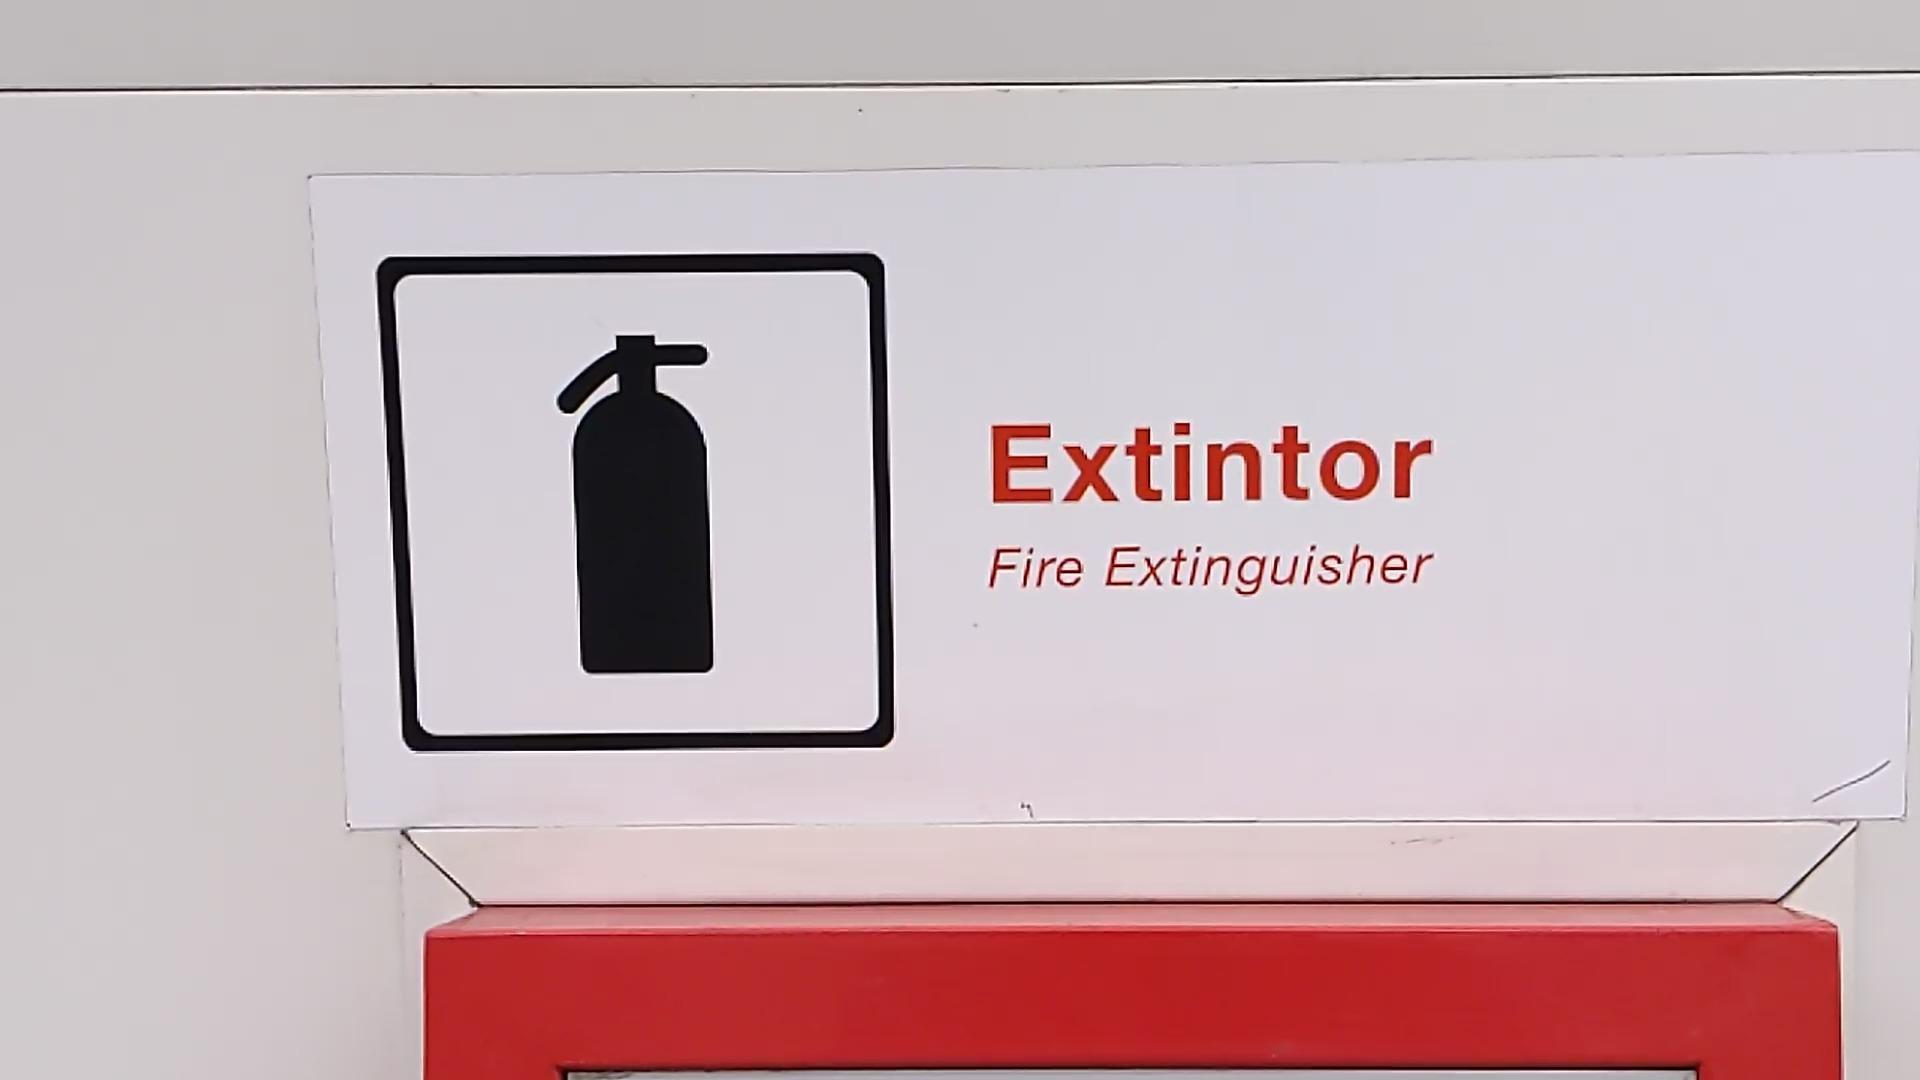extinguisher symbol: (550, 327, 727, 680)
